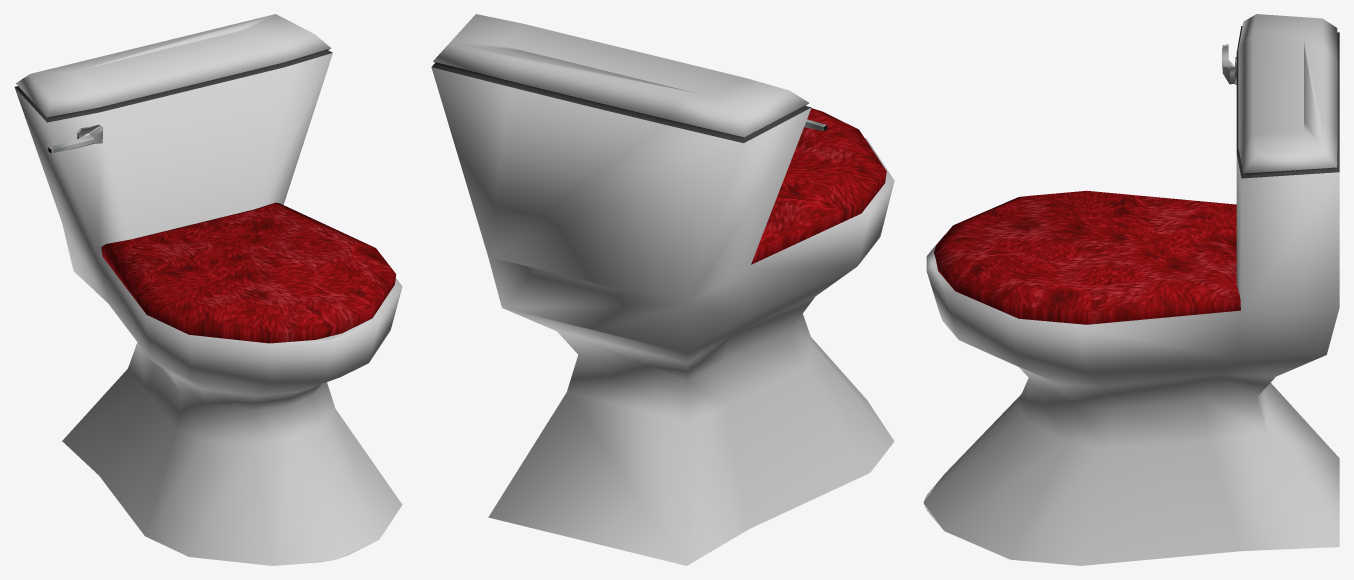
Rendered from Potty_F.FBX.
The picture shows the model from 3 angles, left to right: view 1: azimuth 30°, elevation 25°; view 2: azimuth 150°, elevation 25°; view 3: azimuth 270°, elevation 25°; orthographic projection. The views are drawn at different scales.
Parts seen in each view (by area): view 1: Potty; view 2: Potty; view 3: Potty.
Part boxes in pixels (<box>): Potty: <box>14,14,402,565</box>; Potty: <box>431,14,894,565</box>; Potty: <box>923,14,1339,565</box>.
Size of the model in its own units: 140 by 176 by 159.
